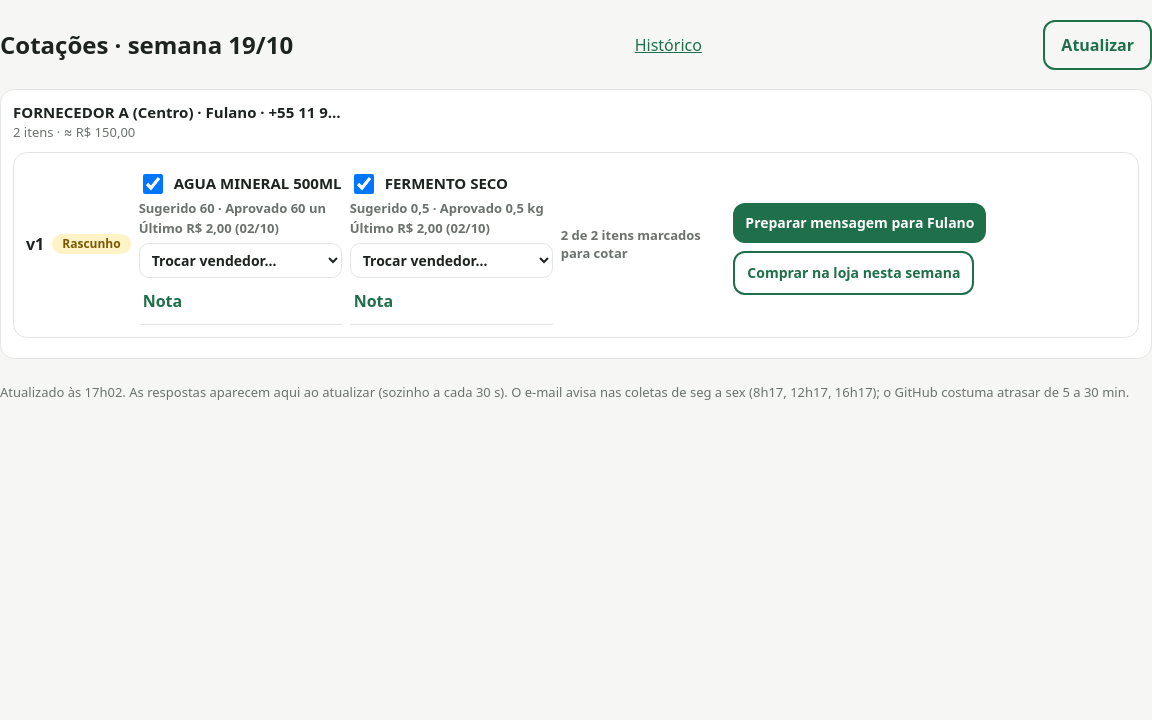
it: Cotações — rascunho e Preparar › "Desfazer (não enviei)" avisa que o link deixa de funcionar e volta ao rascunho
Click the button "Preparar mensagem para Fulano".
click(860, 223)  # box left=733, top=203, right=986, bottom=243
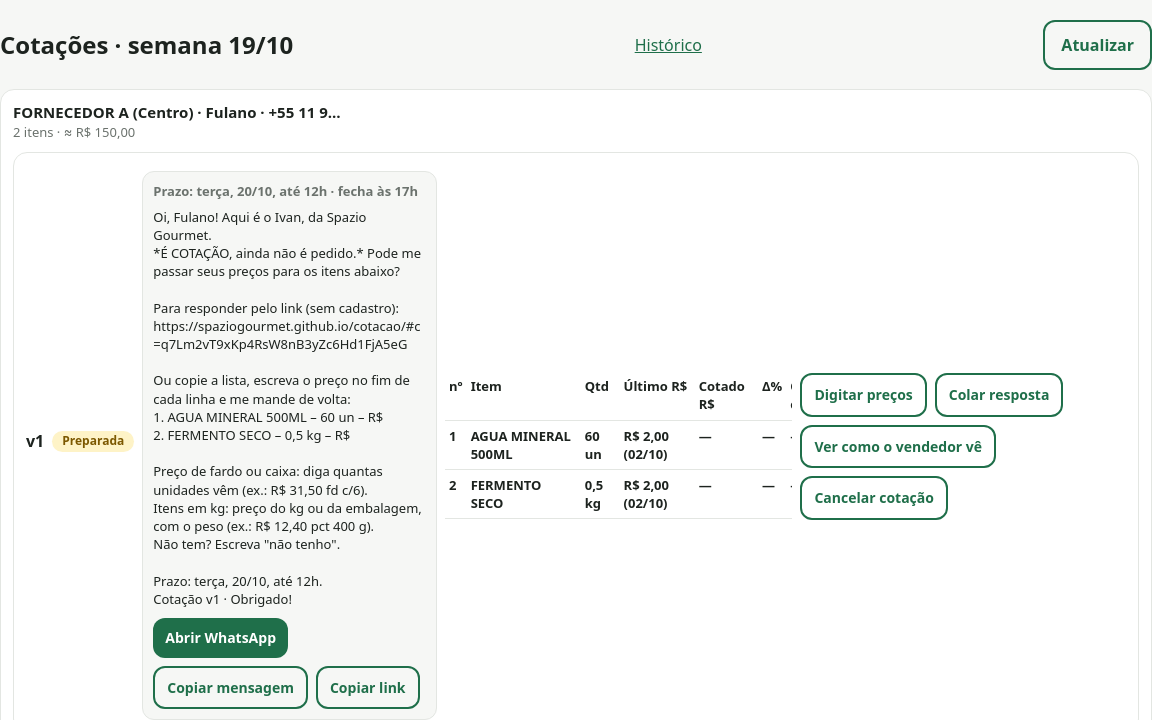
Click the link "Abrir WhatsApp".
click(221, 638)  # box left=153, top=618, right=288, bottom=658
(page scrolled)
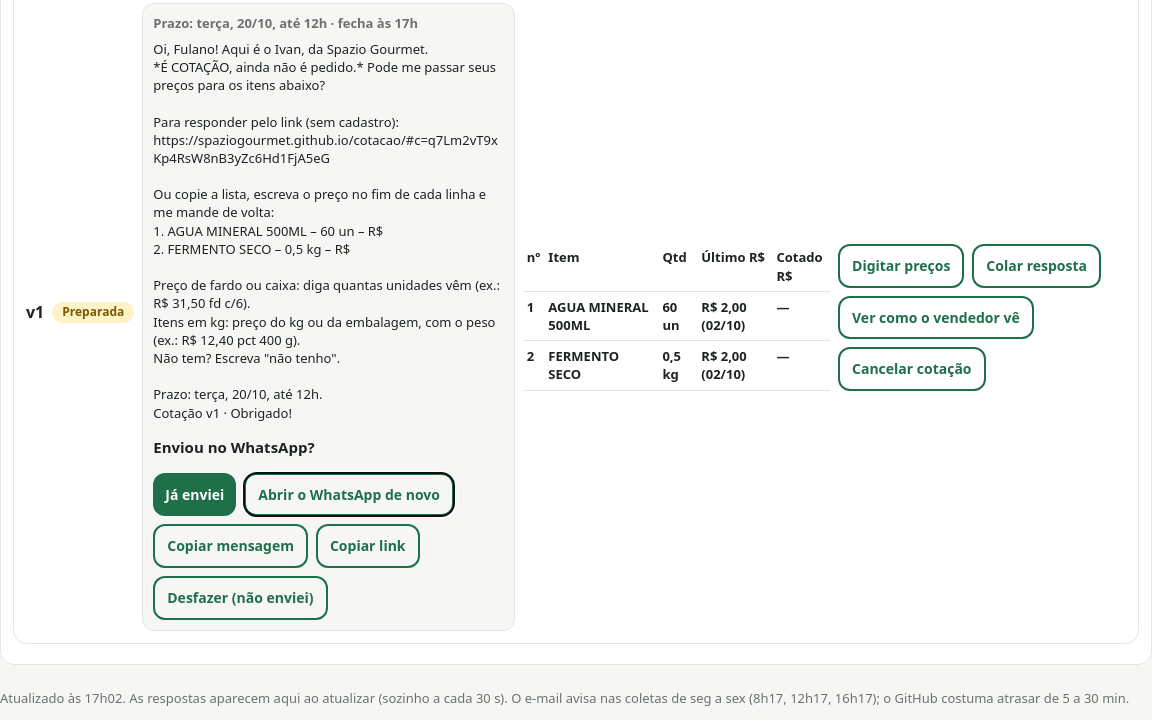
Click the button "Desfazer (não enviei)".
click(240, 598)  # box left=153, top=576, right=328, bottom=620
(page scrolled)
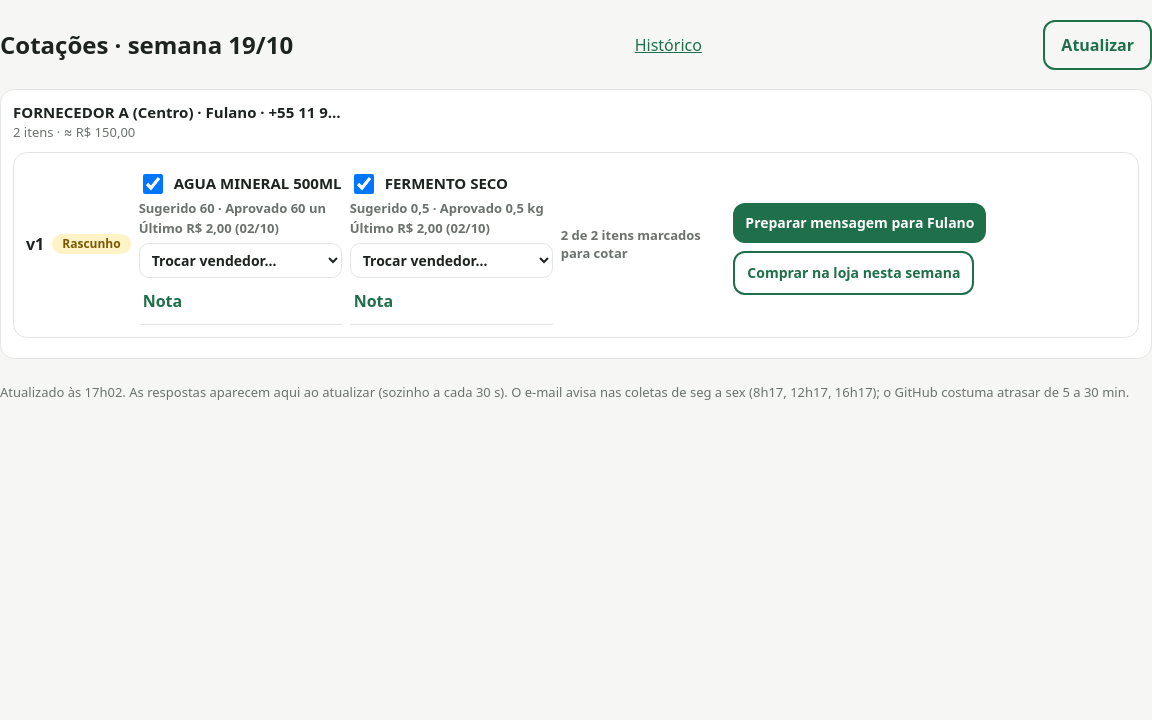
Check: the button "Preparar mensagem para Fulano" is shown, box left=733, top=203, right=986, bottom=243
